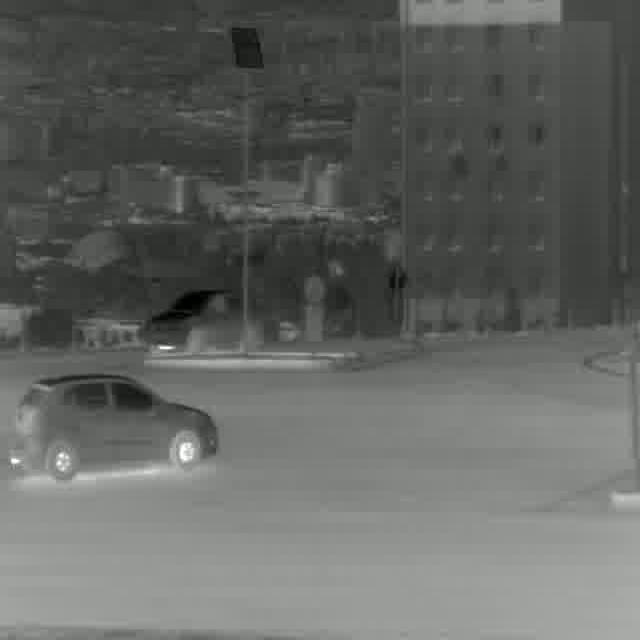Car: (12, 371, 220, 480), (143, 288, 260, 351)
